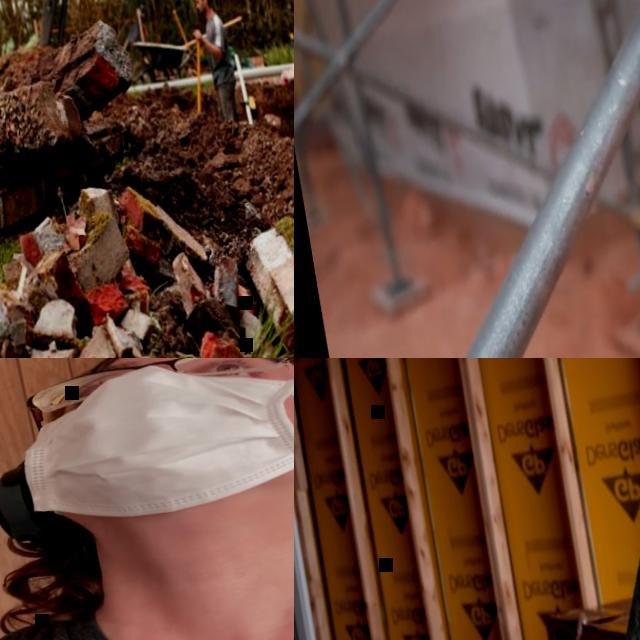Mask: (8, 358, 294, 536)
NO-Mask: (196, 1, 205, 13)
NO-Safety Vest: (0, 538, 294, 640), (201, 13, 236, 87)
Person: (0, 358, 294, 640), (184, 0, 243, 129)
